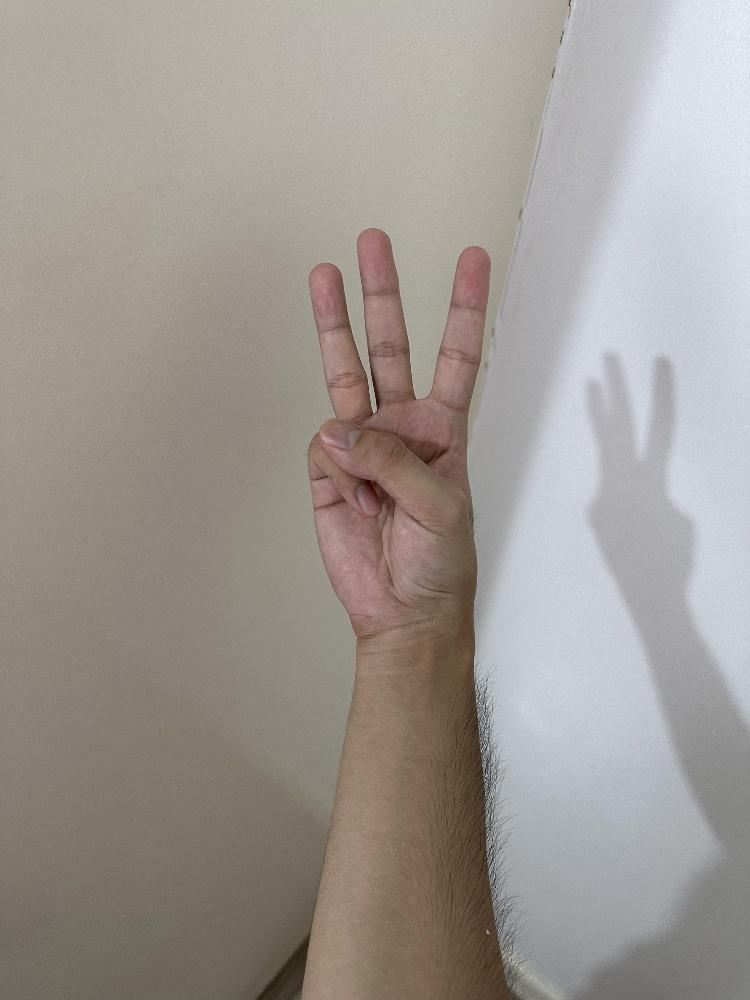w: (304, 222, 495, 642)
